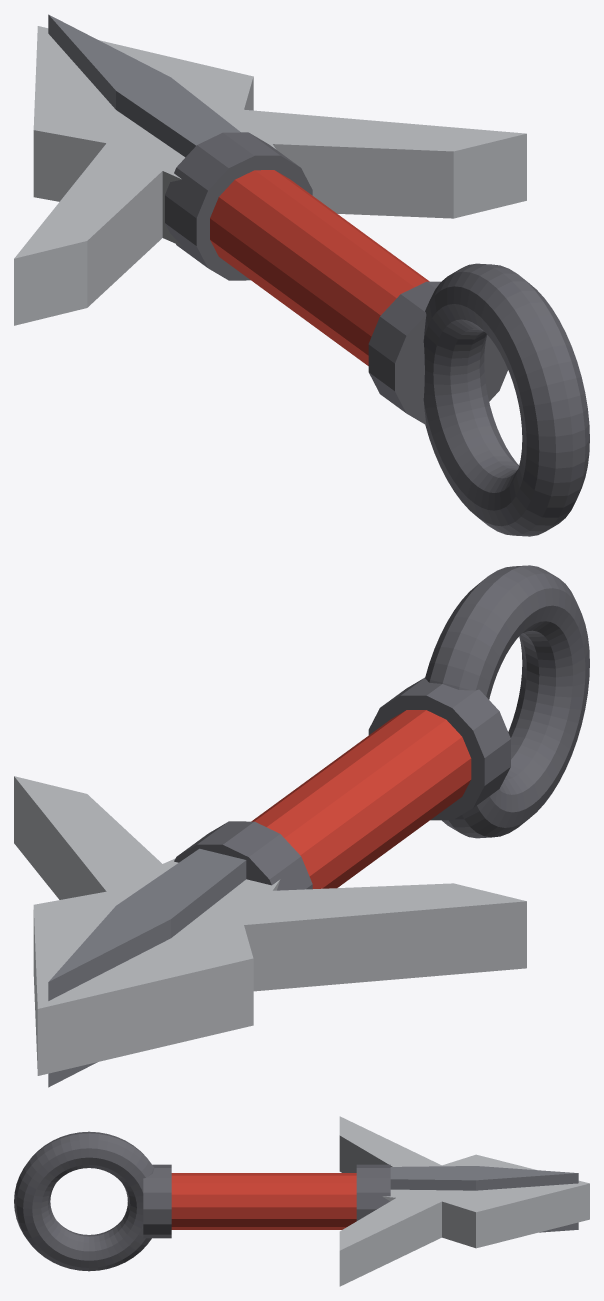
Rendered from harpoon_hook.glb.
The picture shows the model from 3 angles, top to bottom: view 1: azimuth 30°, elevation 25°; view 2: azimuth 150°, elevation 25°; view 3: azimuth 270°, elevation 25°; orthographic projection. The views are drawn at different scales.
Visible parts, largest first — view 1: Hook; view 2: Hook; view 3: Hook.
Part boxes in pixels (box(x1,y1,x2,y2)): Hook: box(14, 14, 589, 536); Hook: box(14, 565, 589, 1087); Hook: box(14, 1116, 589, 1286).
Size of the model in its own units: 0.56 by 0.264 by 1.01.
